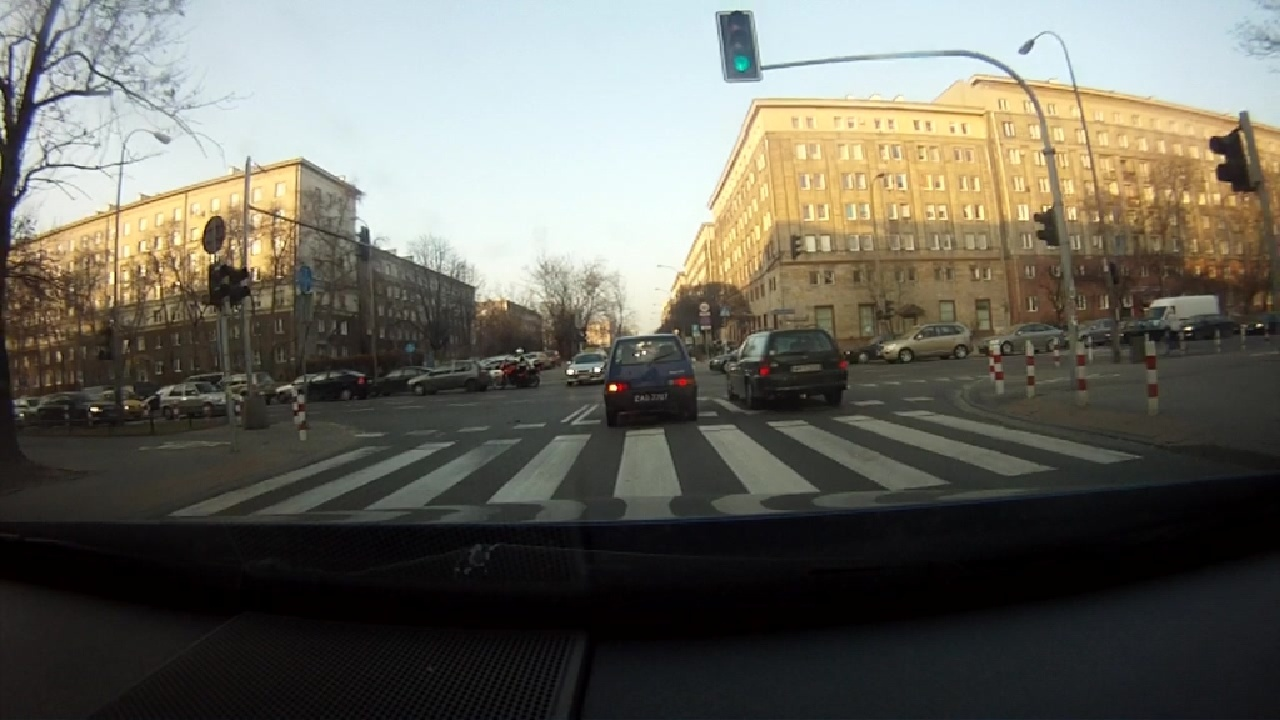Green: (727, 11, 753, 74)
